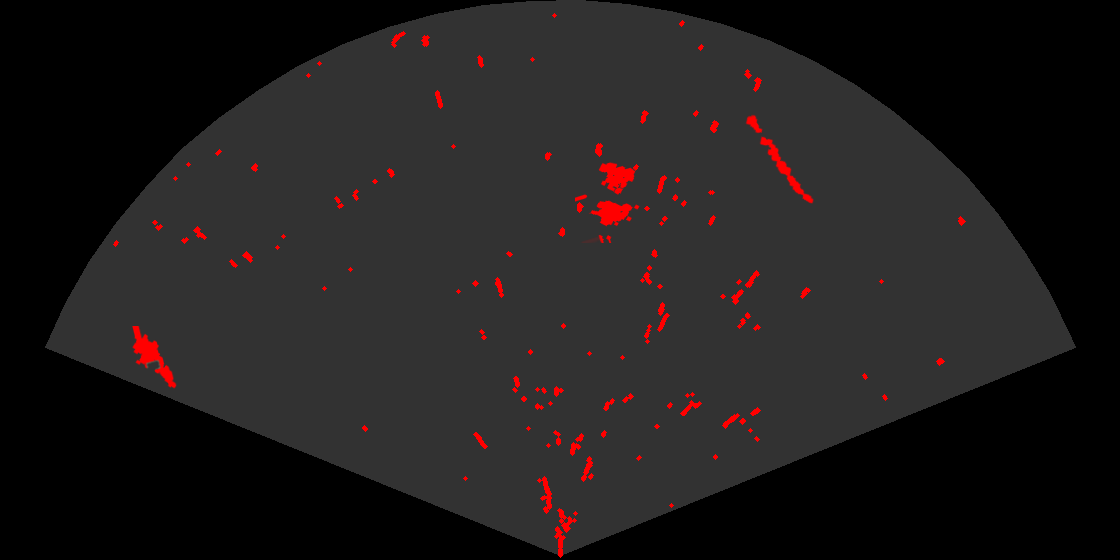cage: (575, 161, 641, 243)
chain: (744, 113, 815, 205)
frogman: (131, 326, 178, 390)
